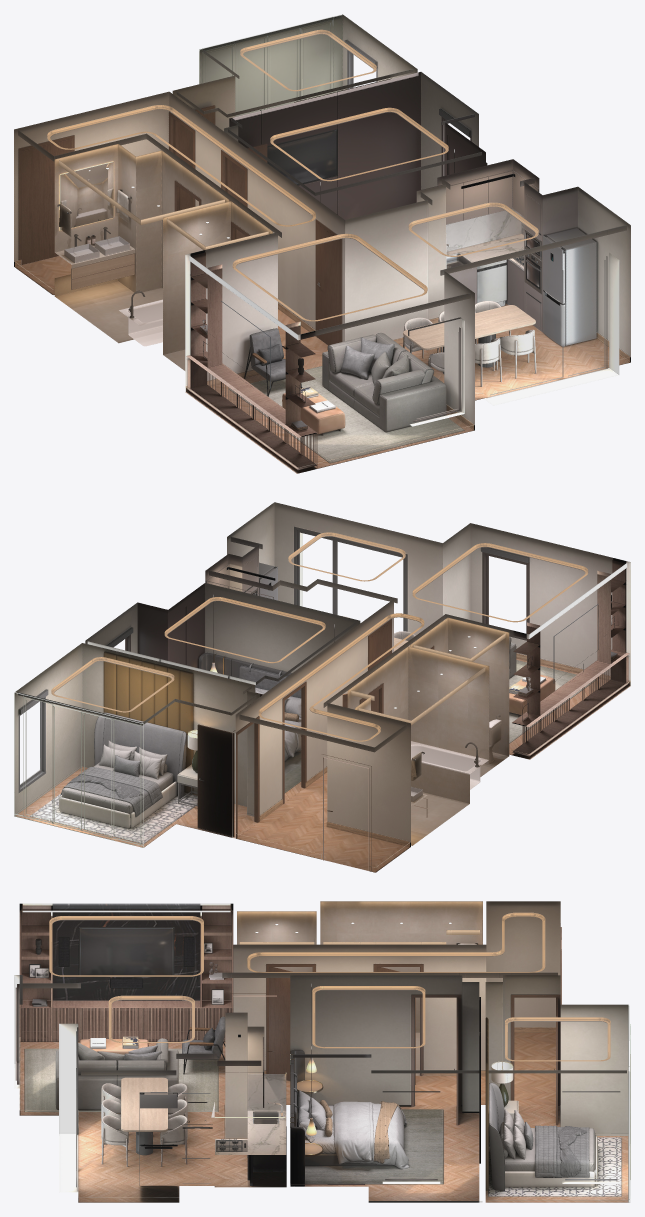
File: apartment.glb
3 renders of one model, top to bottom at view 1: azimuth 30°, elevation 25°; view 2: azimuth 150°, elevation 25°; view 3: azimuth 270°, elevation 25°, orthographic. The views are drawn at different scales.
Parts seen in each view (by area): view 1: Sala_Cozinha_4, Banheiros_Corredor_0, Quartos_3, Teto_1; view 2: Quartos_3, Banheiros_Corredor_0, Sala_Cozinha_4, Teto_1, Chambre01_Meuble_Lit_2; view 3: Sala_Cozinha_4, Quartos_3, Banheiros_Corredor_0, Teto_1, Chambre01_Meuble_Lit_2.
Boxes of the visible parts, bbox=[...] form: Sala_Cozinha_4: bbox=[185, 159, 630, 473]; Banheiros_Corredor_0: bbox=[14, 91, 344, 370]; Quartos_3: bbox=[169, 14, 487, 238]; Teto_1: bbox=[18, 29, 626, 340]; Quartos_3: bbox=[14, 583, 360, 847]; Banheiros_Corredor_0: bbox=[235, 599, 509, 872]; Sala_Cozinha_4: bbox=[205, 502, 630, 759]; Teto_1: bbox=[18, 532, 627, 752]; Chambre01_Meuble_Lit_2: bbox=[60, 687, 301, 816]; Sala_Cozinha_4: bbox=[14, 903, 286, 1202]; Quartos_3: bbox=[290, 975, 630, 1202]; Banheiros_Corredor_0: bbox=[230, 901, 561, 1104]; Teto_1: bbox=[22, 912, 626, 1075]; Chambre01_Meuble_Lit_2: bbox=[297, 1090, 595, 1177].
Bounding box in the file's own units: 7.05 × 2.51 × 10.66.
5 materials, 5 textured.
